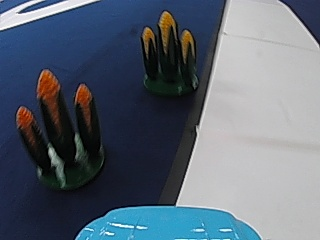corn: (14, 67, 111, 193), (133, 8, 202, 95)
